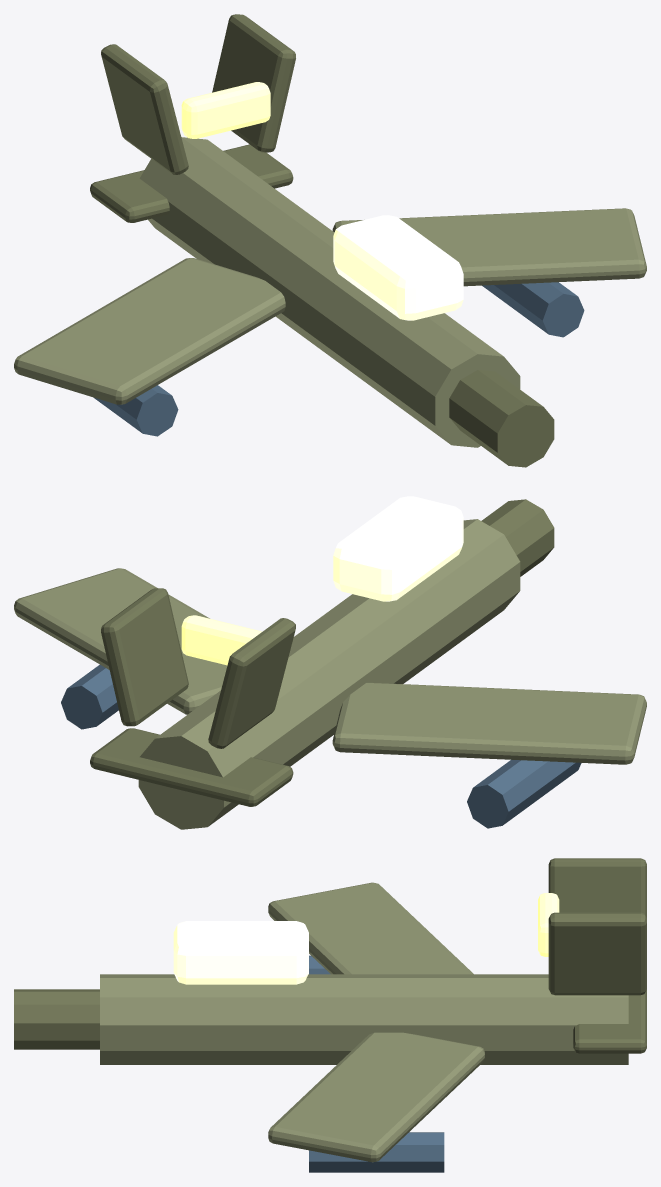
Rendered from com_strike_flyer.glb.
3 renders of one model, top to bottom at view 1: azimuth 30°, elevation 25°; view 2: azimuth 150°, elevation 25°; view 3: azimuth 270°, elevation 25°, orthographic. The views are drawn at different scales.
Visible parts, largest first — view 1: com_strike_flyer; view 2: com_strike_flyer; view 3: com_strike_flyer.
Part boxes in pixels (x1,y1,x2,y2): com_strike_flyer: (14,14,646,467); com_strike_flyer: (14,496,646,829); com_strike_flyer: (14,858,646,1172).
Bounding box in the file's own units: 1.03 × 0.3537 × 1.03.
